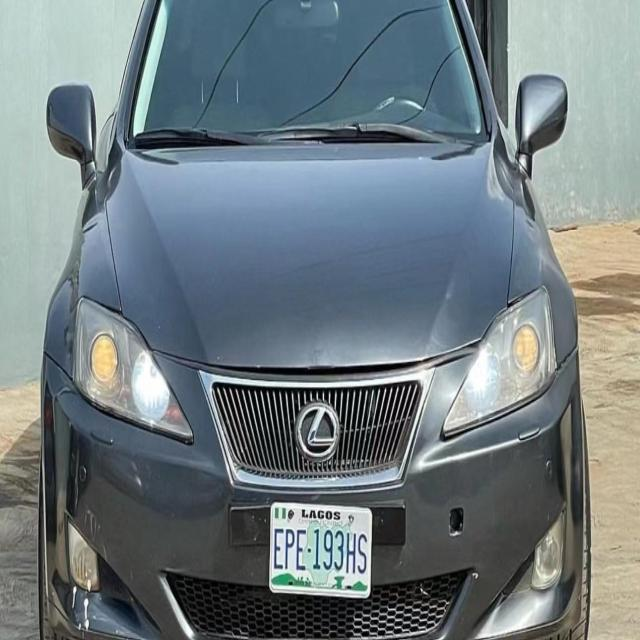Nigerian License Plate - vdataset benjamin-daria: (268, 499, 376, 606)
